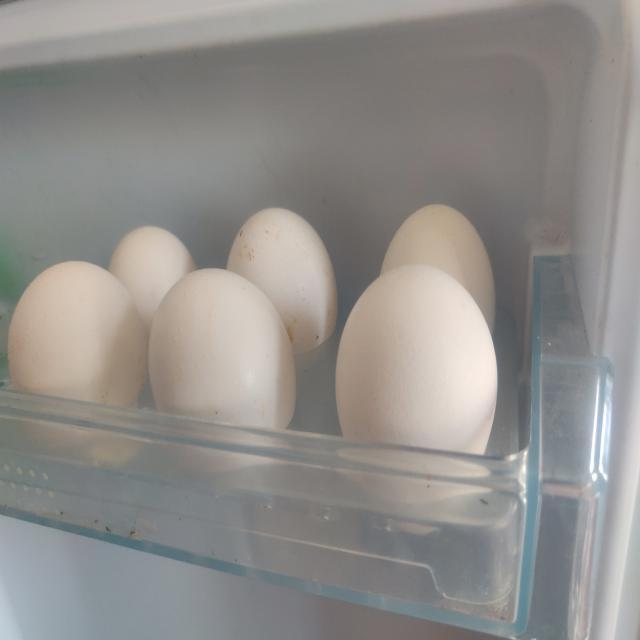Egg: (336, 264, 498, 454), (148, 268, 296, 429), (7, 261, 147, 407), (227, 208, 338, 354), (381, 204, 496, 332), (108, 226, 196, 339)
